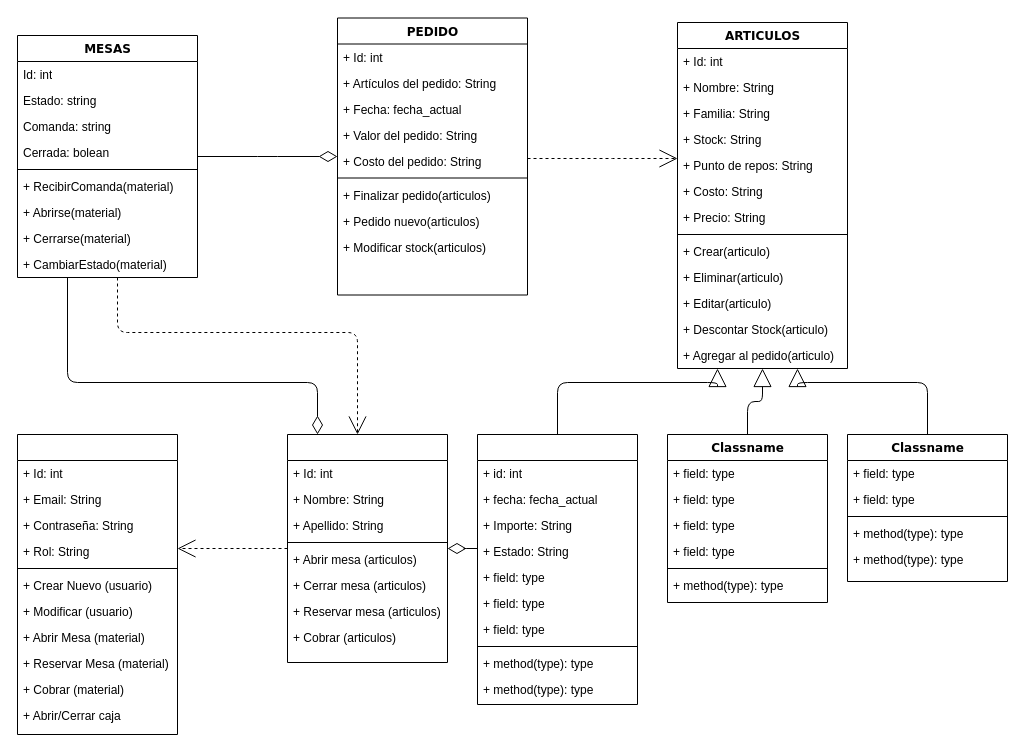
This 1025x752 diagram has some shape labels left out. Each missing label, with the box of its shape:
CAJA: (476, 434, 638, 704)
EMPLEADOS: (286, 434, 448, 662)
USUARIOS: (16, 434, 178, 734)
